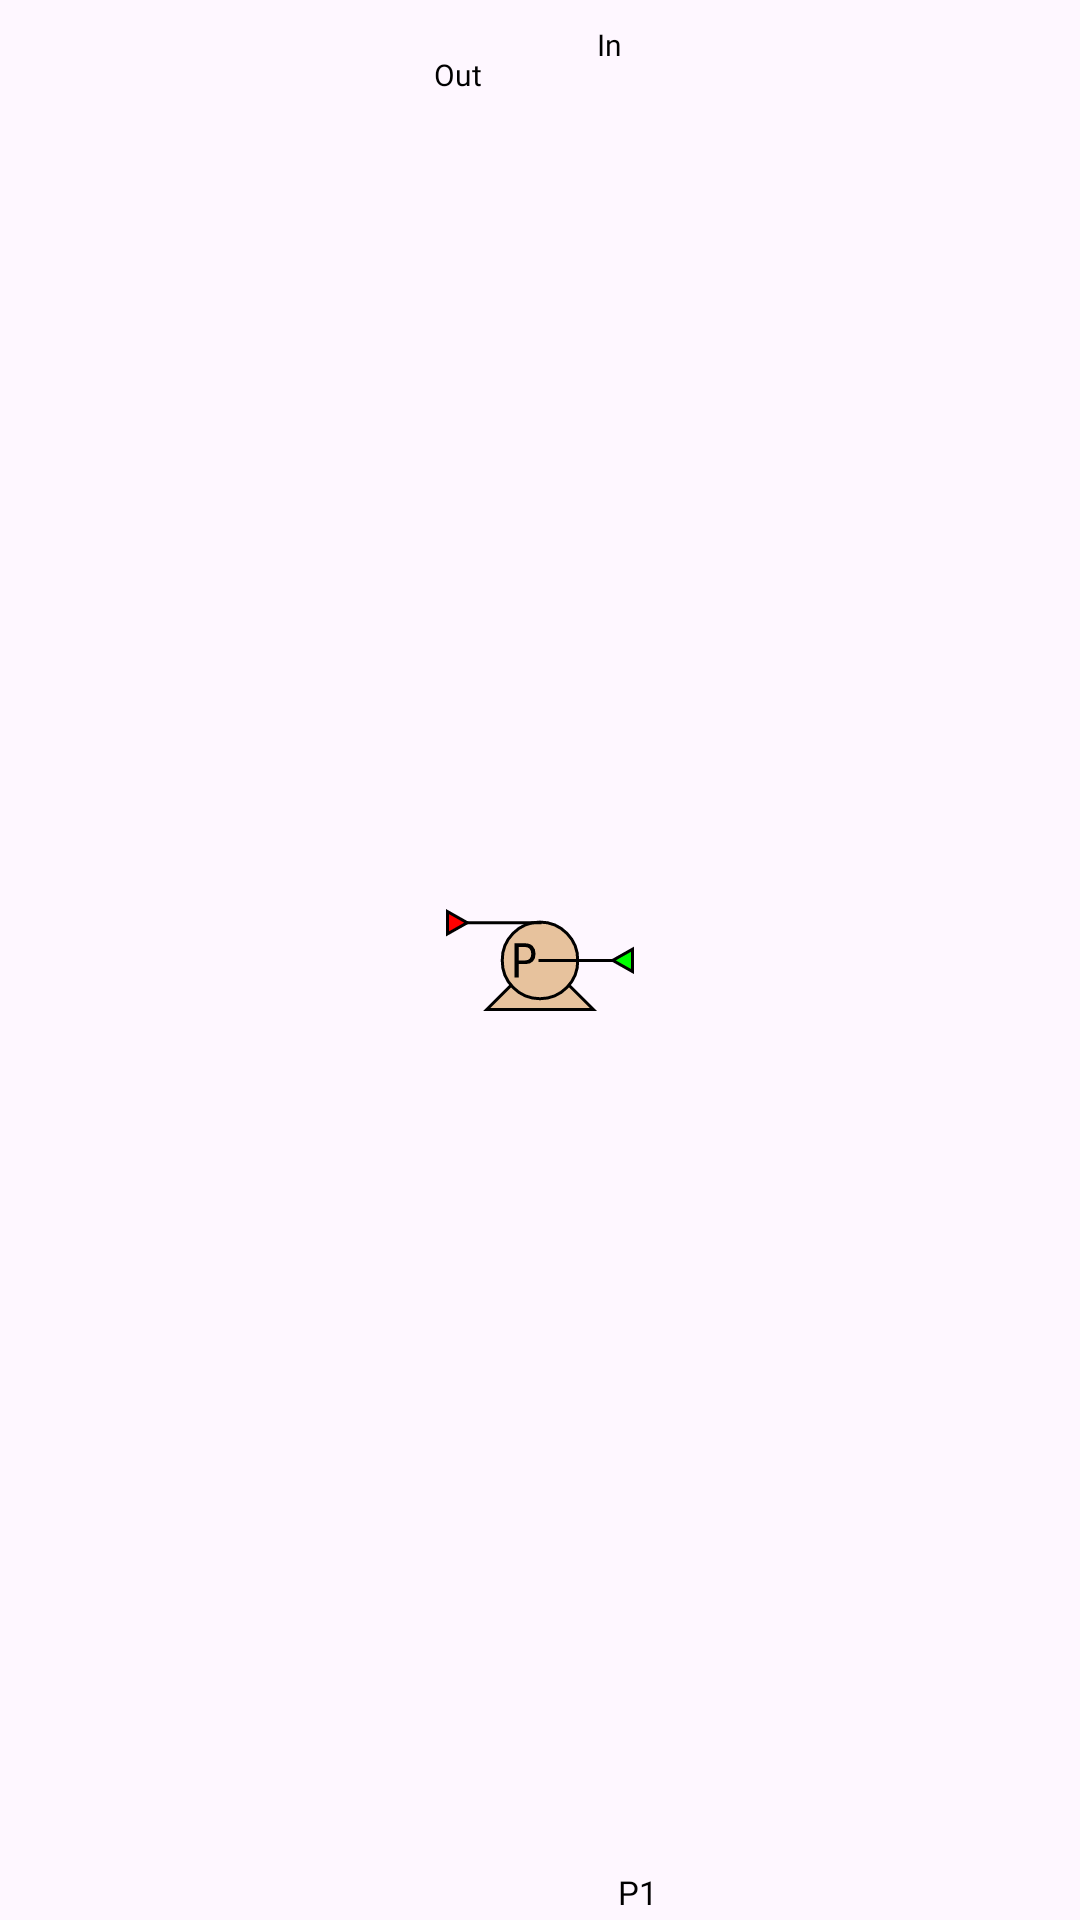

Screen size 1080w x 1920h. Icon name, then its center in pixels as (x=x, y=y):
pump: (x=540, y=960)
